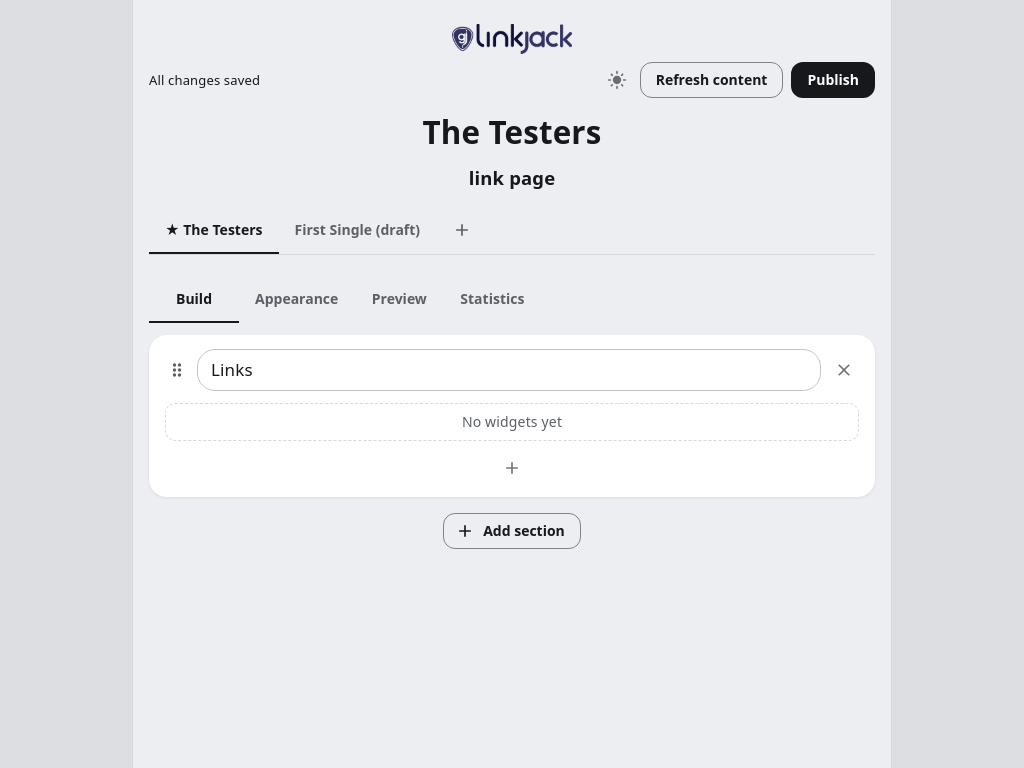
Editor workflow › keeps the release page open when its deletion fails
The image size is (1024, 768).
Click the tab "First Single (draft)": (357, 230) [278,206,436,254]
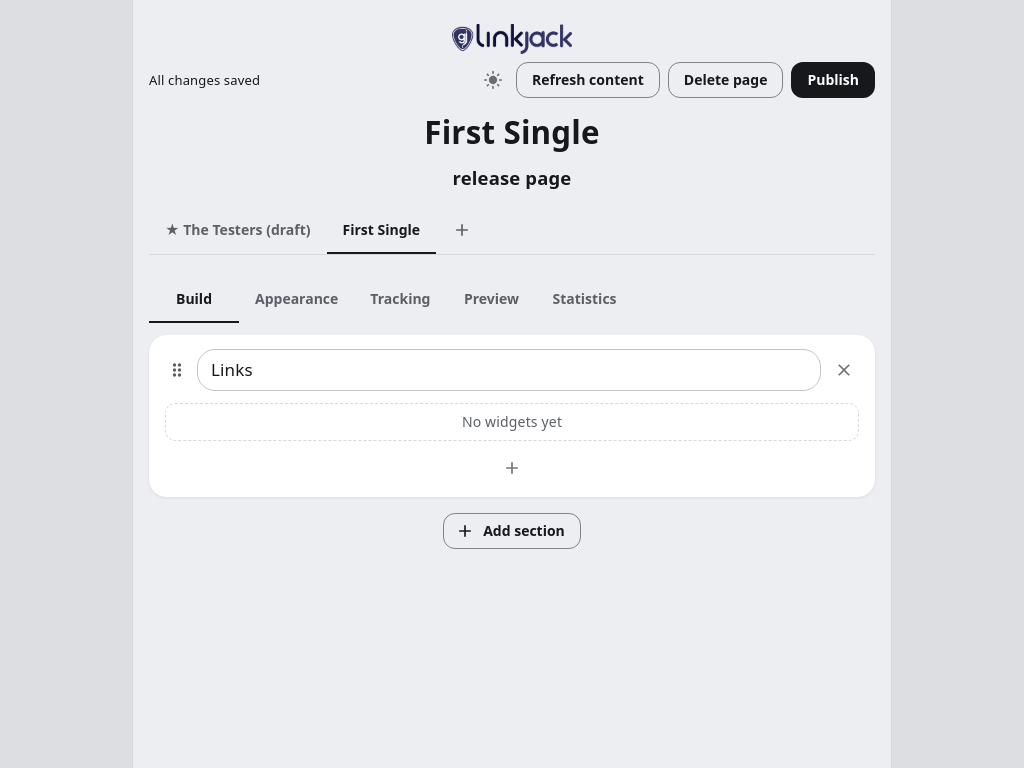
Check: the heading "release page" is shown, box [453,165,571,190]
Click the button "Delete page": (726, 80) [668,62,783,98]
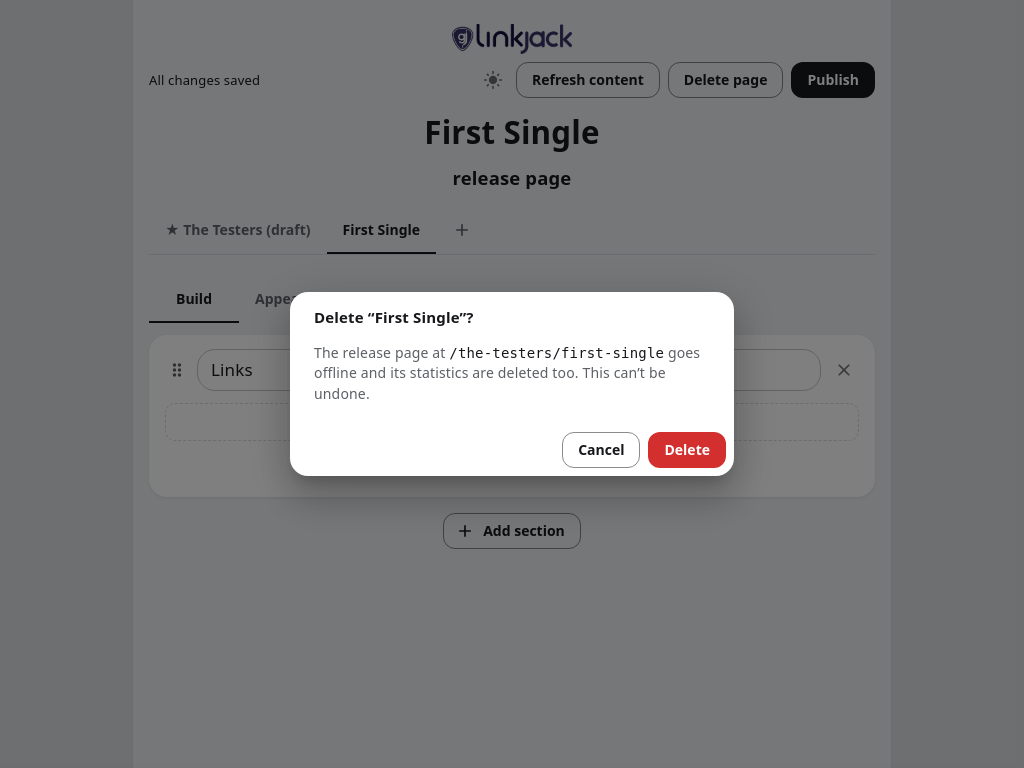
Click the button "Delete": (687, 450) [648,432,726,468]
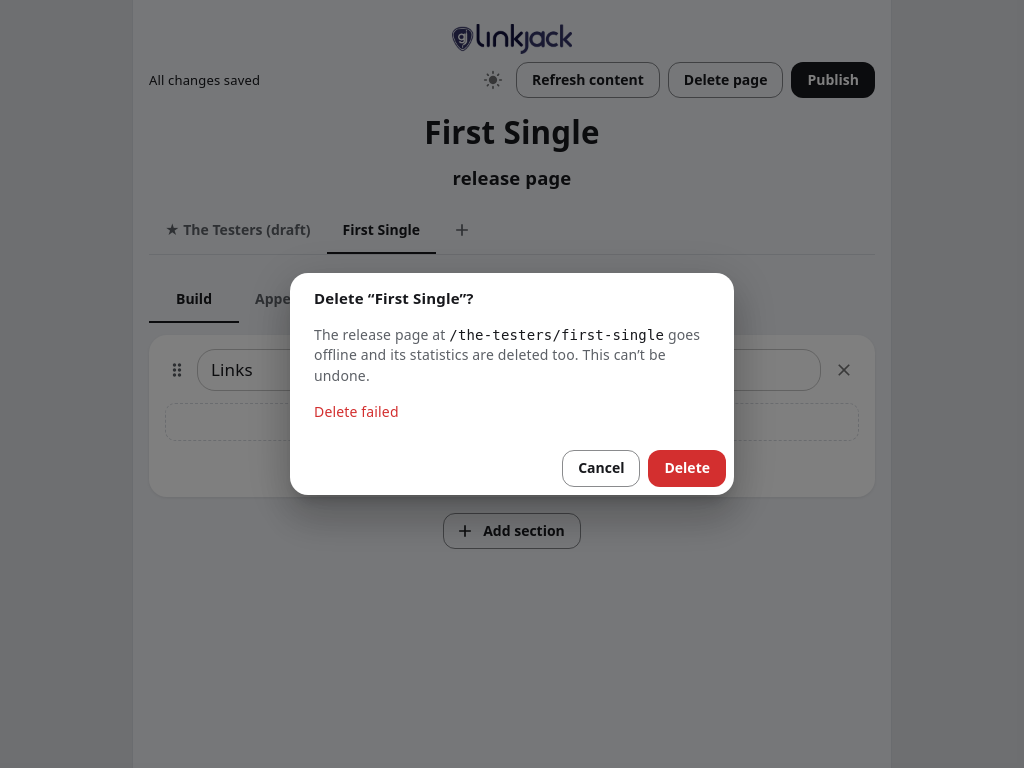
Check: the text "Delete failed" is shown, box [314,402,399,421]
